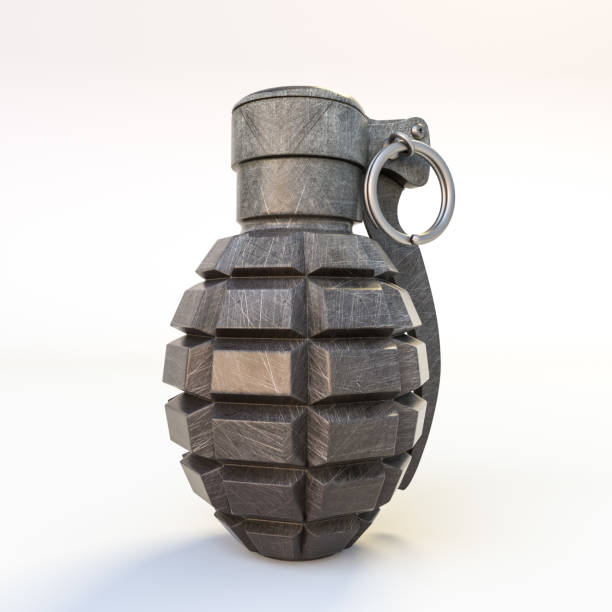e1: (164, 84, 456, 562)
